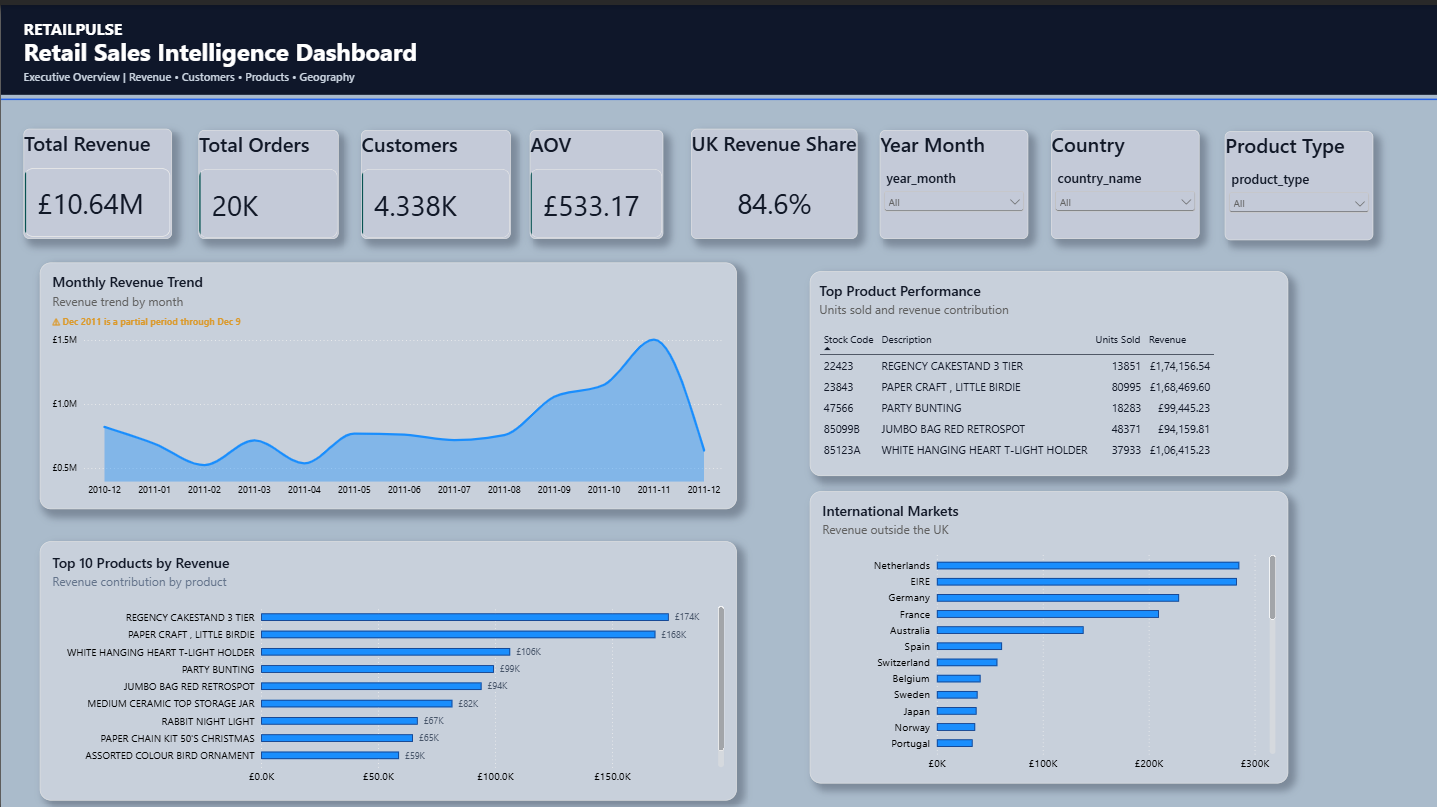

The page's visual inventory and layout, read from the dashboard file:
{"tool":"powerbi","page":{"name":"01 Executive Overview","canvas":[1920,1080],"ordinal":0},"visuals":[{"type":"shape","box":[0,0,1920,120],"z":0},{"type":"cardVisual","title":"Total Revenue","fields":{"Data":["Sum(retail fact_sales.revenue)"]},"box":[30.1,165.3,198.7,146.9],"z":1000},{"type":"cardVisual","title":"Total Orders","fields":{"Data":["retail dim_country.Total Orders"]},"box":[263.8,167,187,145.3],"z":2000},{"type":"cardVisual","title":"Customers","fields":{"Data":["CountNonNull(retail dim_customer.customer_key)"]},"box":[480.9,167,200.4,145.3],"z":3000},{"type":"cardVisual","title":"AOV","fields":{"Data":["retail dim_country.AOV"]},"box":[706.3,167,178.7,145.3],"z":4000},{"type":"card","title":"UK Revenue Share","fields":{"Values":["retail dim_country.UK Revenue Share"]},"box":[922.1,165.6,222.7,147.2],"z":5000},{"type":"slicer","title":"Year Month","fields":{"Values":["retail dim_date.year_month"]},"box":[1174.2,167.5,198.8,145.4],"z":6000},{"type":"slicer","title":"Country","fields":{"Values":["retail dim_country.country_name"]},"box":[1402.5,167.5,198.8,145.4],"z":7000},{"type":"slicer","title":"Product Type","fields":{"Values":["retail fact_sales.product_type"]},"box":[1634.4,169.3,198.8,145.4],"z":8000},{"type":"lineChart","title":"Monthly Revenue Trend","fields":{"Category":["retail dim_date.year_month"],"Y":["Sum(retail fact_sales.revenue)"]},"box":[51.7,343.3,931.3,329.4],"z":9000},{"type":"textbox","box":[30,16.2,726.2,32.5],"z":10000},{"type":"textbox","title":"Executive Overview | Revenue • Customers • Products • Geography","box":[30.1,85.2,450.8,35.1],"z":11000},{"type":"shape","box":[0,120,1920,12],"z":12000},{"type":"tableEx","title":"Top Product Performance","fields":{"Values":["retail dim_product.stock_code","retail dim_product.description","Sum(retail fact_sales.quantity)","Sum(retail fact_sales.revenue)"]},"box":[1080.3,355.7,639.5,273.8],"z":13000},{"type":"clusteredBarChart","title":"Top 10 Products by Revenue","fields":{"Category":["retail dim_product.description"],"Y":["Sum(retail fact_sales.revenue)"]},"box":[51.5,716,931.3,346],"z":14000},{"type":"clusteredBarChart","title":"International Markets","fields":{"Category":["retail dim_country.country_name"],"Y":["Sum(retail fact_sales.revenue)"]},"box":[1080.3,649.5,639.5,390.7],"z":15000},{"type":"textbox","box":[68,412,266.7,28.3],"z":16000},{"type":"textbox","box":[30,40,588,46],"z":17000}]}

Visuals, with their boxes in screenshot pixels (x1, y1, x2, y2), scaled from the page's 1920x1080 canvas onto the 1437x807 screenshot:
shape: [0, 0, 1436, 90]
"Total Revenue" cardVisual: [23, 124, 171, 233]
"Total Orders" cardVisual: [197, 125, 337, 233]
"Customers" cardVisual: [360, 125, 510, 233]
"AOV" cardVisual: [529, 125, 662, 233]
"UK Revenue Share" card: [690, 124, 857, 234]
"Year Month" slicer: [879, 125, 1028, 234]
"Country" slicer: [1050, 125, 1198, 234]
"Product Type" slicer: [1223, 127, 1372, 235]
"Monthly Revenue Trend" lineChart: [39, 257, 736, 503]
textbox: [22, 12, 566, 36]
"Executive Overview | Revenue • Customers • Products • Geography" textbox: [23, 64, 360, 90]
shape: [0, 90, 1436, 99]
"Top Product Performance" tableEx: [809, 266, 1287, 470]
"Top 10 Products by Revenue" clusteredBarChart: [39, 535, 736, 794]
"International Markets" clusteredBarChart: [809, 485, 1287, 777]
textbox: [51, 308, 251, 329]
textbox: [22, 30, 463, 64]
